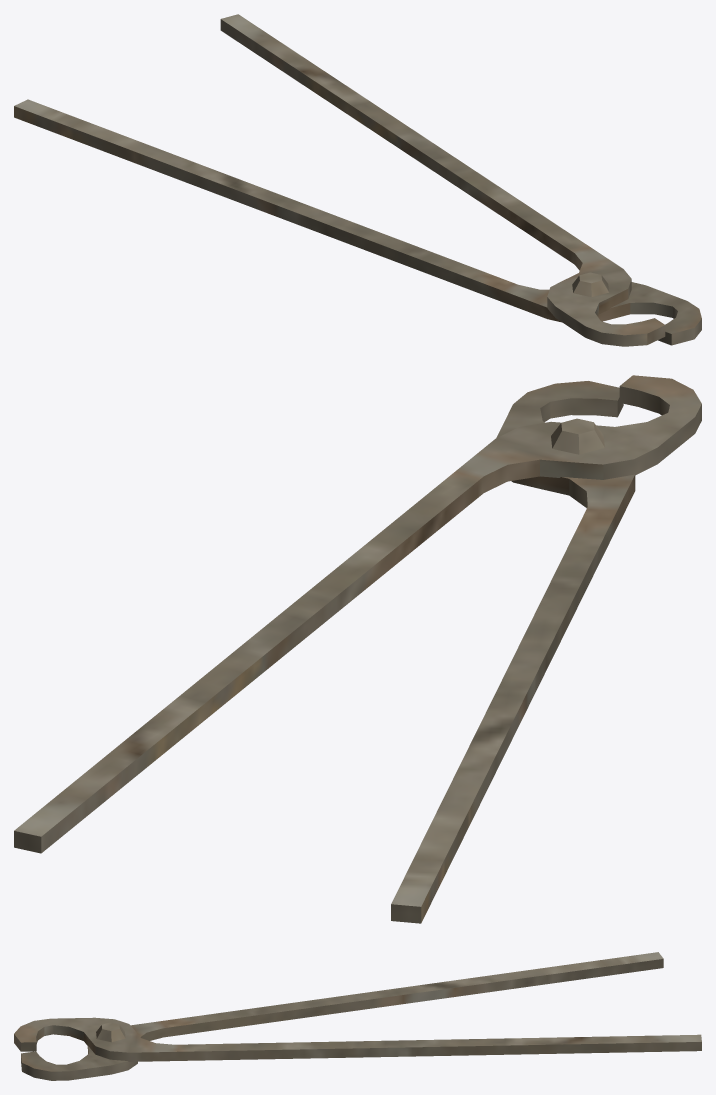
The model's file is tongs.fbx.
3 views of the same model, one above another, from view 1: azimuth 30°, elevation 25°; view 2: azimuth 150°, elevation 25°; view 3: azimuth 270°, elevation 25° (orthographic). The views are drawn at different scales.
Parts seen in each view (by area): view 1: Cube.378; view 2: Cube.378; view 3: Cube.378.
Boxes of the visible parts, x1,y1,x2,y2 form: Cube.378: (14,14,701,346); Cube.378: (14,375,701,923); Cube.378: (14,952,701,1080).
Bounding box in the file's own units: 21.96 × 2.24 × 53.36.
